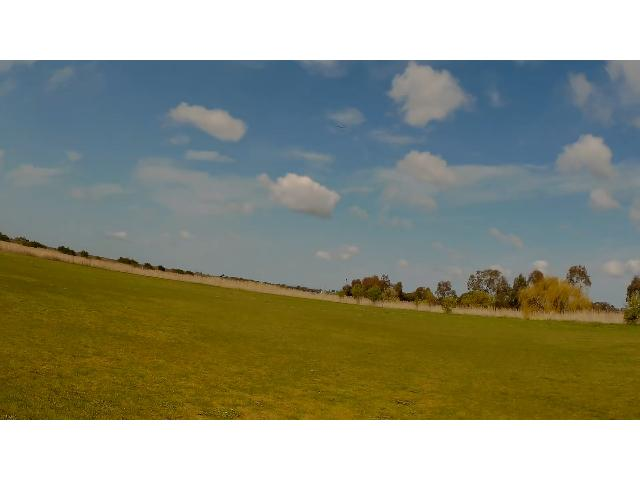Anti-Drone: (324, 110, 360, 143)
